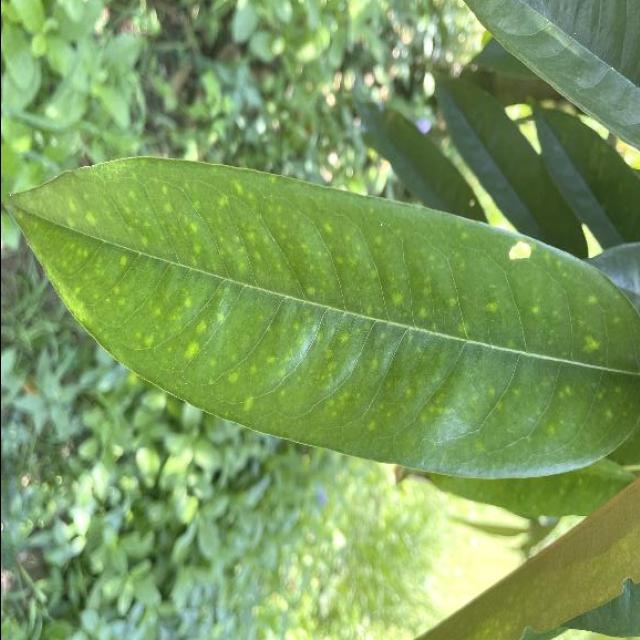Leaf Spot: (4, 151, 640, 485)
